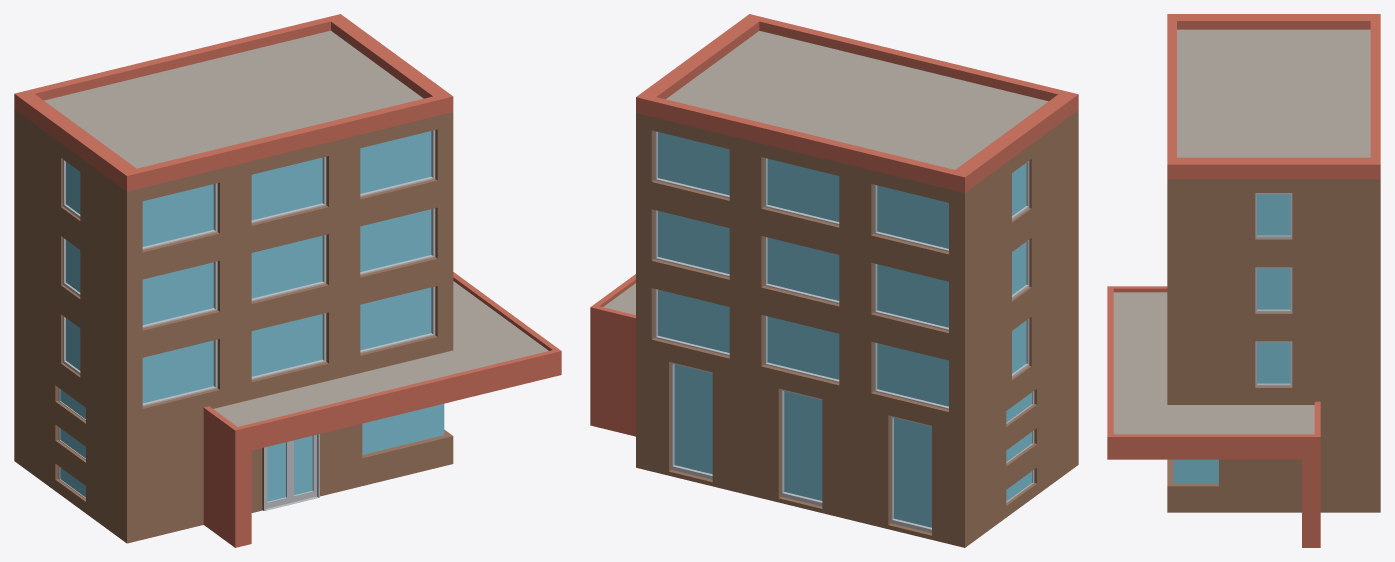
File: SM_Hotel_01_A.gltf
3 renders of one model, left to right at view 1: azimuth 30°, elevation 25°; view 2: azimuth 150°, elevation 25°; view 3: azimuth 270°, elevation 25°, orthographic. The views are drawn at different scales.
Visible parts, largest first — view 1: SM_Hotel_01_A; view 2: SM_Hotel_01_A; view 3: SM_Hotel_01_A.
Part boxes in pixels (left/top/right/bottom): SM_Hotel_01_A: left=14, top=14, right=561, bottom=547; SM_Hotel_01_A: left=590, top=14, right=1078, bottom=547; SM_Hotel_01_A: left=1107, top=14, right=1380, bottom=547.
Bounding box in the file's own units: 4.57 × 3.98 × 2.83.
